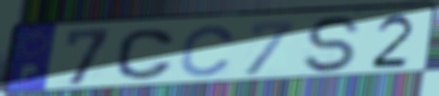2: (370, 12, 418, 70)
7: (63, 27, 112, 88), (247, 19, 298, 77)
C: (113, 27, 177, 82), (178, 24, 239, 79)
S: (302, 14, 366, 75)
